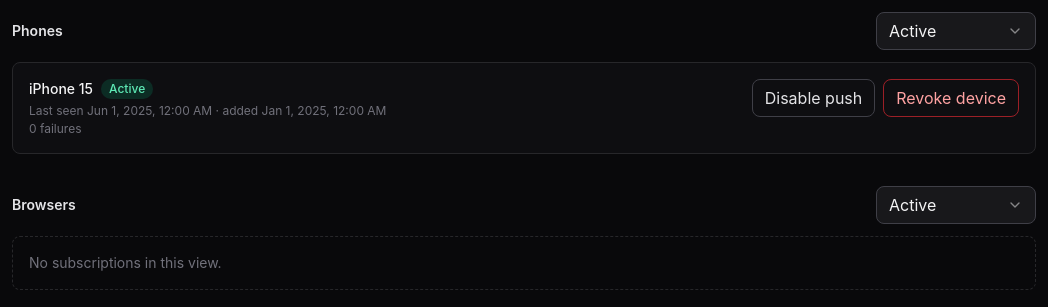
Test: SubscribersPanel › posts to the revoke URL and refetches when the action is confirmed
Expected: the text "iPhone 15" is shown, x1=29 y1=79 x2=93 y2=99
Click the button "Revoke device": click(951, 98) x1=883 y1=79 x2=1019 y2=117
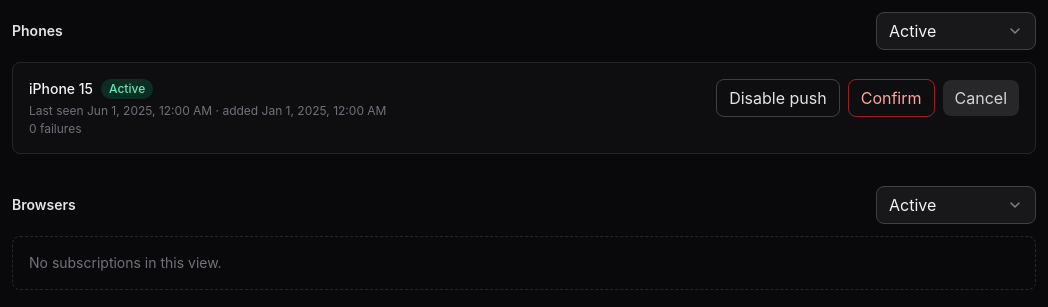
Click the button "Confirm": click(891, 98) x1=848 y1=79 x2=934 y2=117
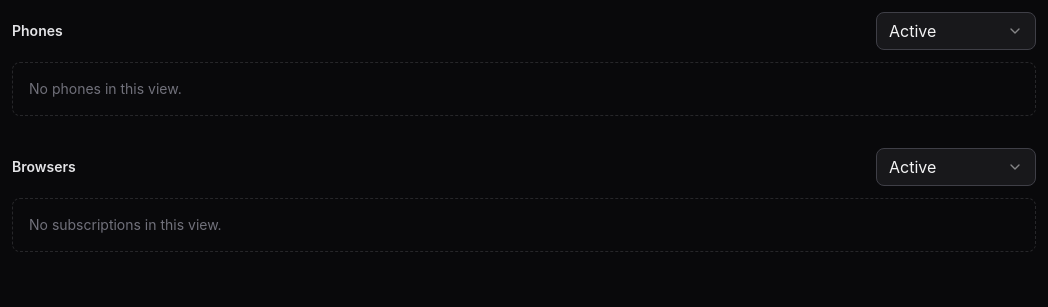
Expected: the text "iPhone 15" is gone
